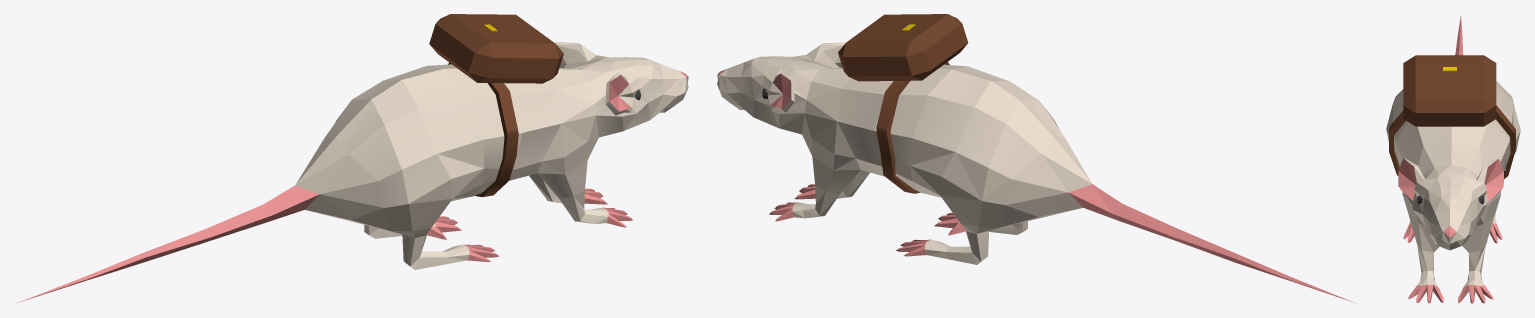
File: Mouse.fbx
3 renders of one model, left to right at view 1: azimuth 30°, elevation 25°; view 2: azimuth 150°, elevation 25°; view 3: azimuth 270°, elevation 25°, orthographic. The views are drawn at different scales.
Parts seen in each view (by area): view 1: mouse_body, backpack, belt; view 2: mouse_body, backpack, belt; view 3: mouse_body, backpack, belt.
Part boxes in pixels (<box>): mouse_body: <box>16,41,688,303</box>; backpack: <box>429,14,563,83</box>; belt: <box>448,62,518,197</box>; mouse_body: <box>717,42,1355,303</box>; backpack: <box>838,14,968,81</box>; belt: <box>876,62,949,193</box>; mouse_body: <box>1386,15,1520,303</box>; backpack: <box>1403,55,1496,126</box>; belt: <box>1389,105,1515,178</box>.
Bounding box in the file's own units: 112 × 34.37 × 22.48.
